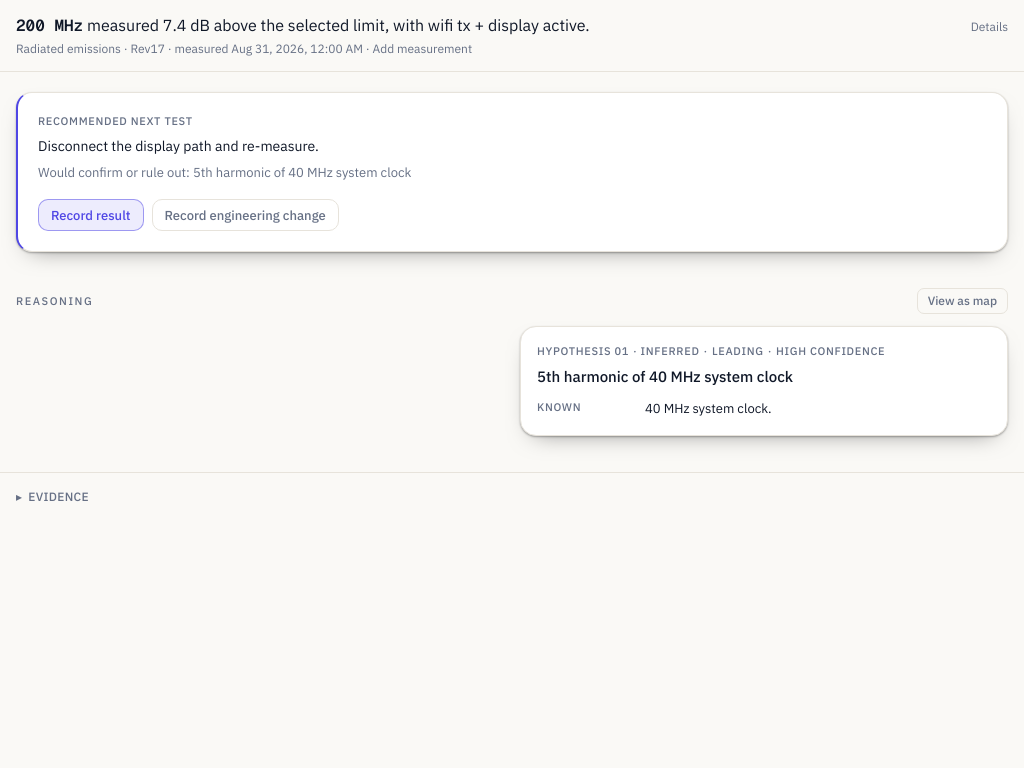
DecisionView — answer-first layout (UX-07) › Evidence disclosure, once real hypotheses exist, starts closed and reveals the real evidence table on click
This screenshot has width=1024, height=768.
Click the heading "▸ Evidence". click: (52, 497)
box: [16,489,89,505]
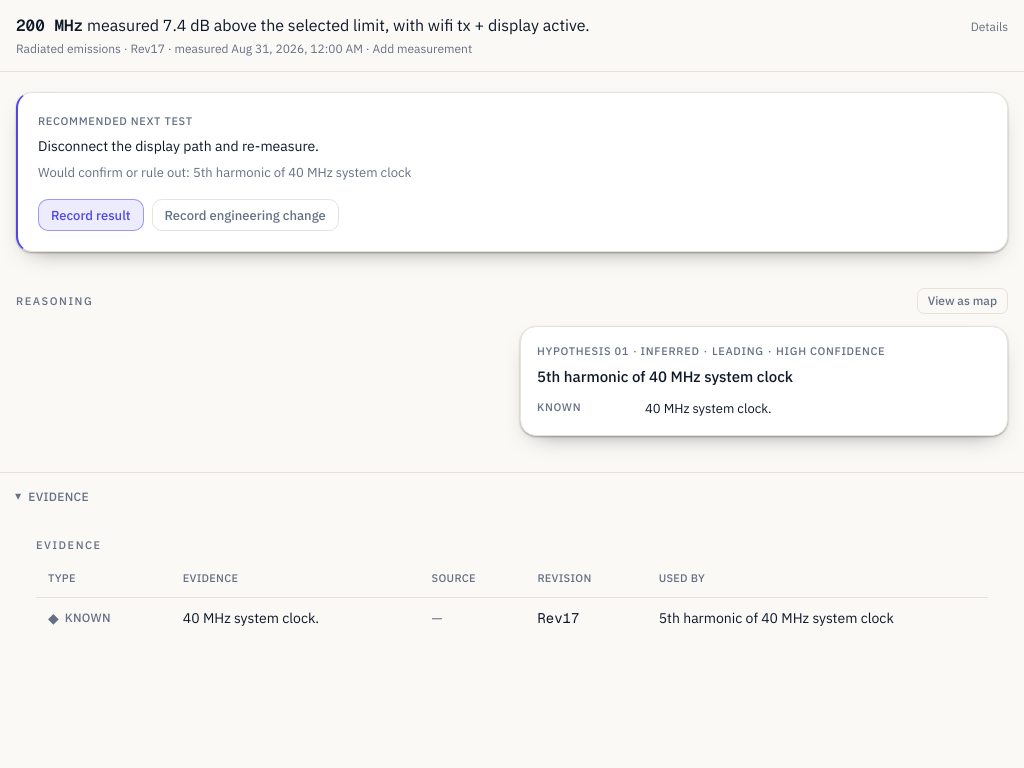
Expected: the text "40 MHz system clock." is shown, [171,598,420,638]
